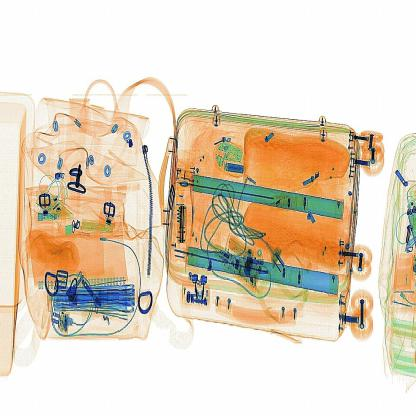scissors: (175, 201, 190, 246)
